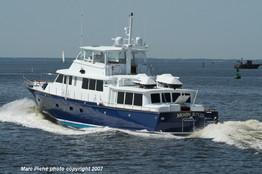yacht: (24, 11, 223, 135)
